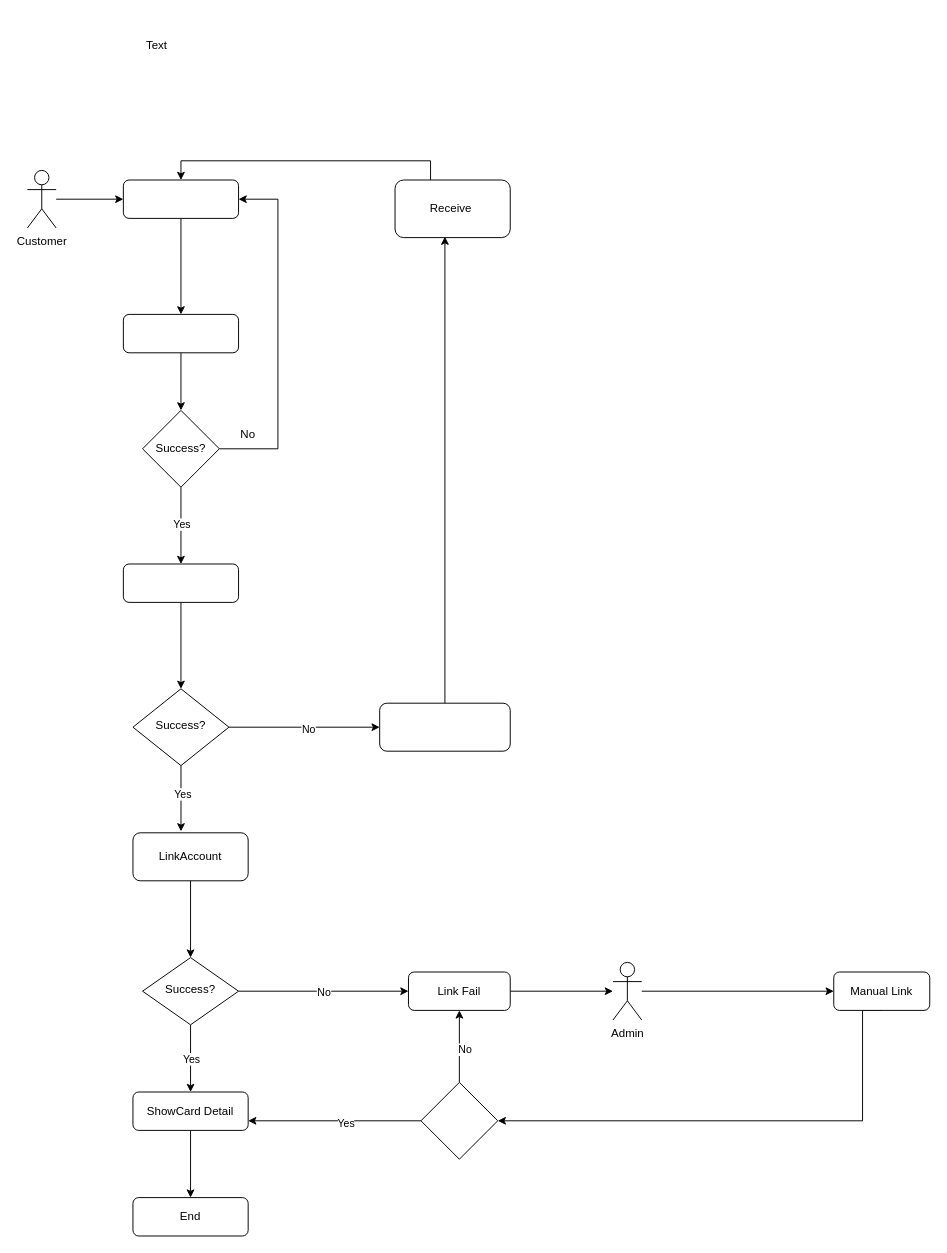
Image size: 947x1253. Some labels were removed from this diagram. The box of each missing label's shape, as (x1, y1, x2, y2) in pixels:
Captured: (122, 563, 239, 602)
Link: (420, 1081, 498, 1159)
Make Payment: (122, 313, 239, 353)
Register: (122, 179, 239, 218)
Reversal: (379, 702, 510, 751)
